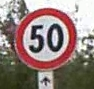limite 50: (13, 8, 76, 70)
